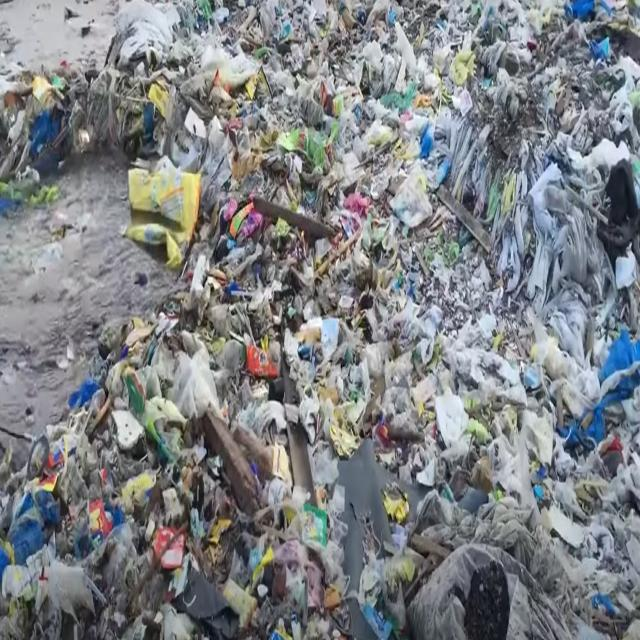litter: (123, 153, 201, 259), (350, 534, 421, 630), (197, 29, 274, 102), (328, 395, 372, 467), (173, 354, 221, 419)
